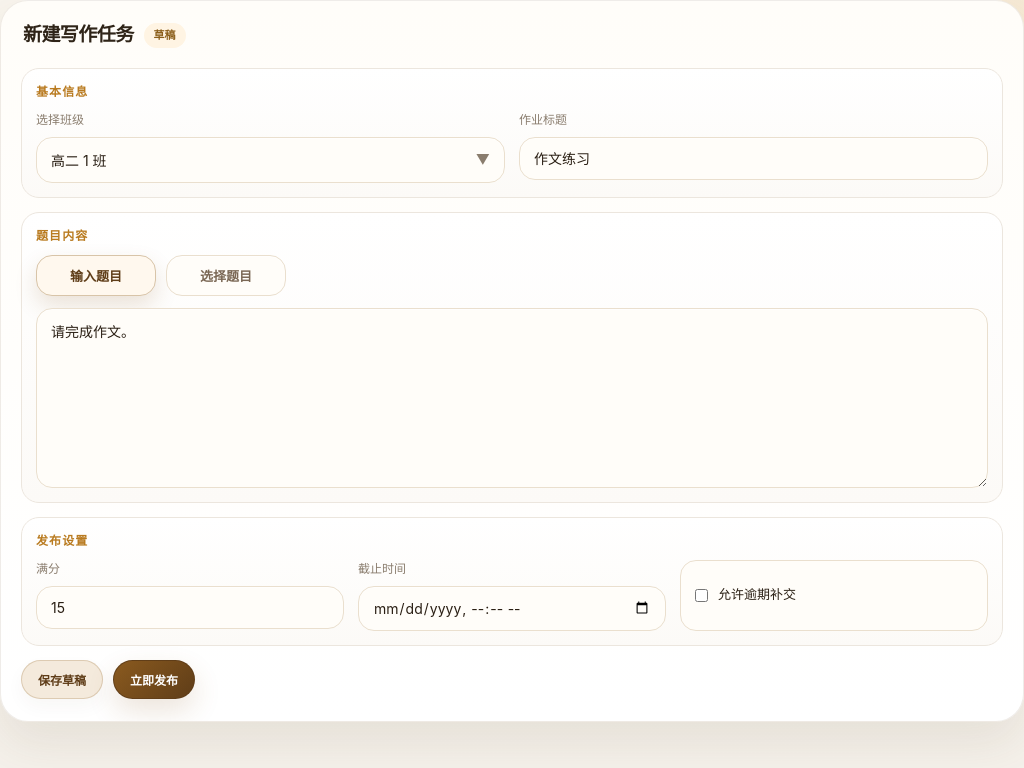
Test: AssignmentDetailPanel › allows class selection only when creating a new assignment
What coordinates should you click on to do the following:
click the button "高二 1 班 ▼"
I would click on:
 (79, 160)
Its box is x1=36 y1=136 x2=505 y2=182.
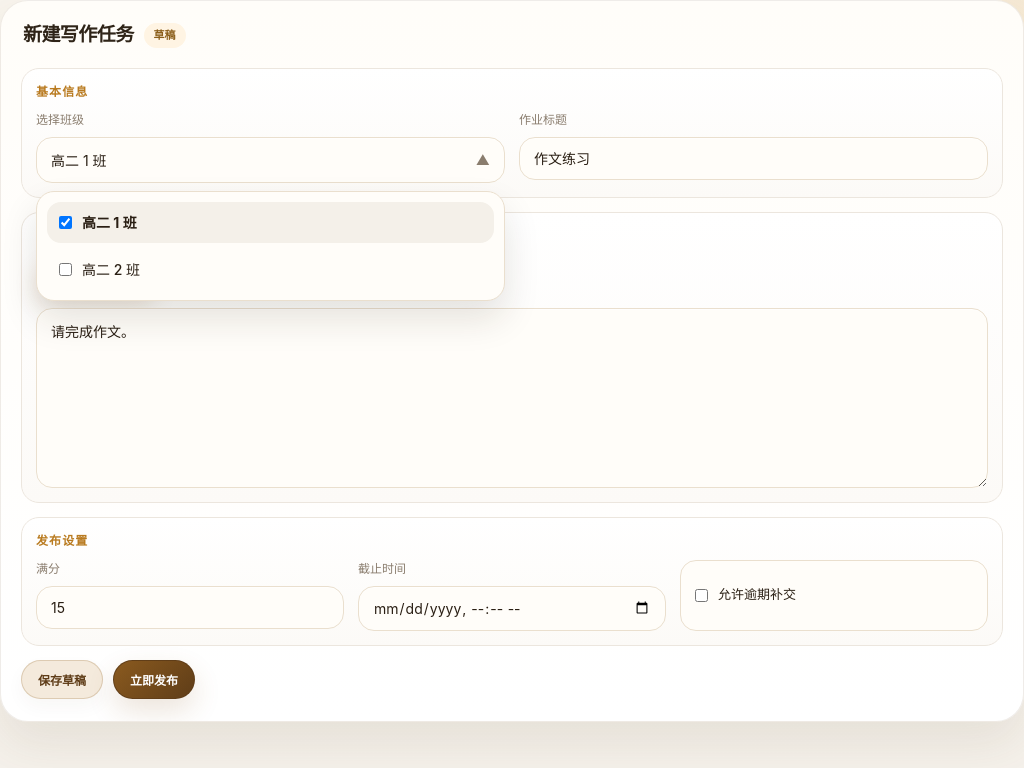
Expected: the checkbox labelled "高二 2 班" is shown, x1=59 y1=262 x2=72 y2=276
